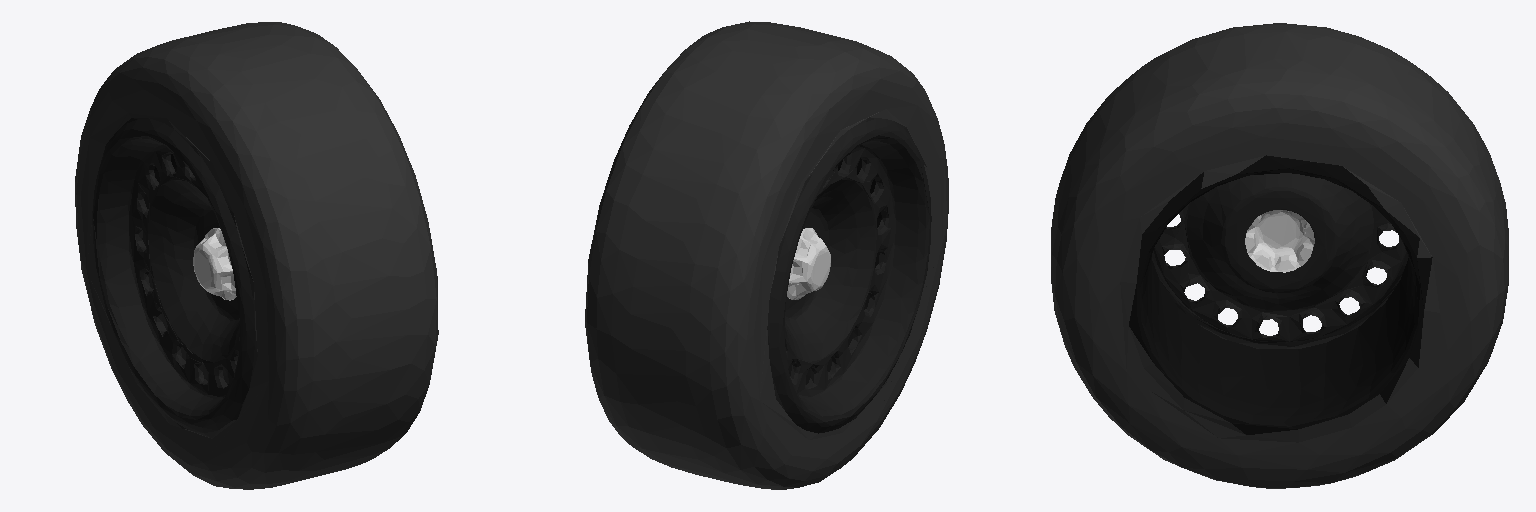
3 views of the same model, side by side, from view 1: azimuth 30°, elevation 25°; view 2: azimuth 150°, elevation 25°; view 3: azimuth 270°, elevation 25° (orthographic).
Parts seen in each view (by area): view 1: FR_CrownVic.Wheel.Ft.R_Cylinder.004; view 2: FR_CrownVic.Wheel.Ft.R_Cylinder.004; view 3: FR_CrownVic.Wheel.Ft.R_Cylinder.004.
Part boxes in pixels (left/top/right/bottom): FR_CrownVic.Wheel.Ft.R_Cylinder.004: left=75, top=22, right=438, bottom=489; FR_CrownVic.Wheel.Ft.R_Cylinder.004: left=585, top=21, right=948, bottom=489; FR_CrownVic.Wheel.Ft.R_Cylinder.004: left=1051, top=23, right=1508, bottom=488.
Bounding box in the file's own units: 0.355 × 0.7939 × 0.7928.
1 materials, 1 textured.